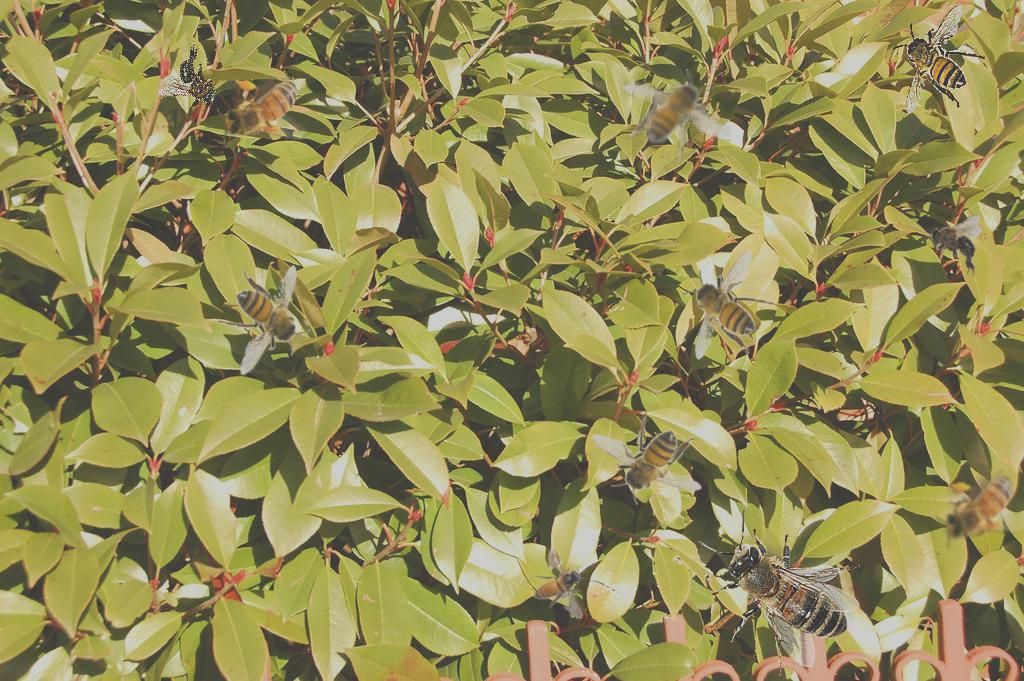Bee: (698, 509, 860, 676), (622, 69, 733, 163), (591, 411, 702, 505), (217, 265, 311, 376), (892, 3, 986, 114), (681, 249, 775, 360), (930, 466, 1024, 551), (156, 40, 235, 122), (217, 76, 310, 144), (925, 209, 984, 277), (534, 548, 584, 619)
